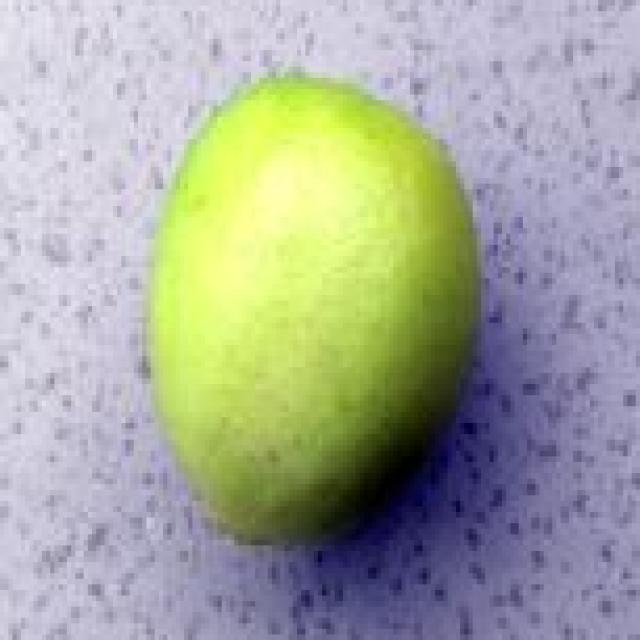Good_Lime-10-21-days: (142, 72, 481, 551)
